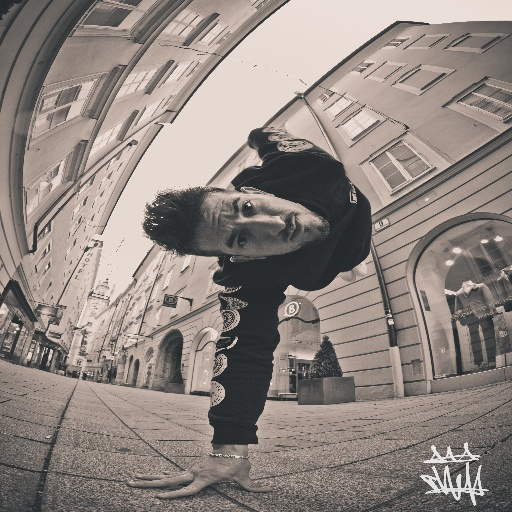hand: (135, 449, 254, 500)
